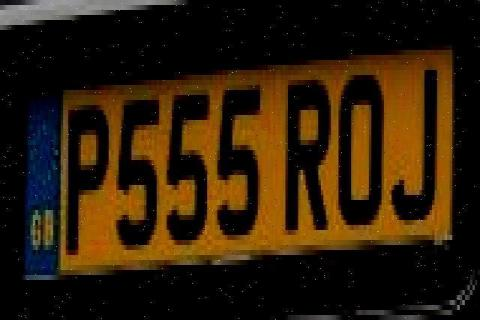LicensePlate: (12, 23, 466, 306)
